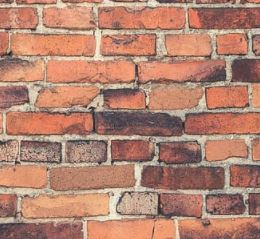brick: (140, 163, 226, 190), (48, 164, 137, 189), (96, 5, 185, 29), (20, 192, 109, 215), (48, 59, 136, 81), (4, 113, 93, 134), (94, 112, 183, 133), (139, 61, 226, 81), (13, 34, 97, 54), (184, 112, 260, 134), (87, 219, 178, 237), (1, 219, 84, 238), (186, 7, 260, 27), (41, 4, 95, 29), (181, 221, 260, 238), (101, 33, 159, 55), (37, 86, 96, 107), (1, 163, 47, 189), (205, 85, 251, 109), (163, 32, 213, 54), (20, 137, 64, 162), (117, 189, 158, 215), (1, 59, 46, 82), (156, 140, 201, 162), (65, 139, 108, 162), (1, 5, 39, 31), (108, 138, 154, 159), (205, 139, 249, 160), (160, 194, 202, 216), (148, 89, 198, 107), (102, 88, 144, 109), (214, 32, 248, 55), (205, 194, 246, 213), (1, 85, 28, 108)
